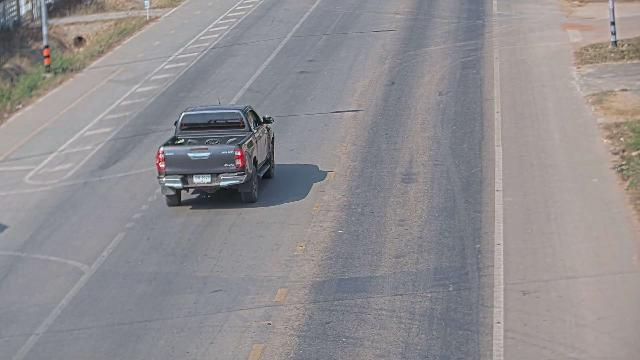pickup-truck: (155, 100, 276, 206)
